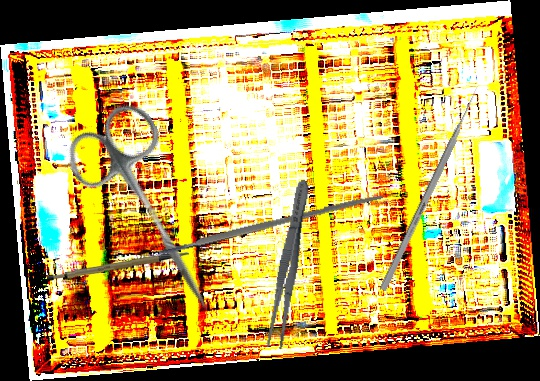Dressing Forceps: (263, 178, 315, 350)
Iris Scissors: (55, 95, 252, 334)
Pusher: (379, 84, 482, 292)
Scalpel Handle: (157, 191, 384, 257), (46, 251, 190, 284)
